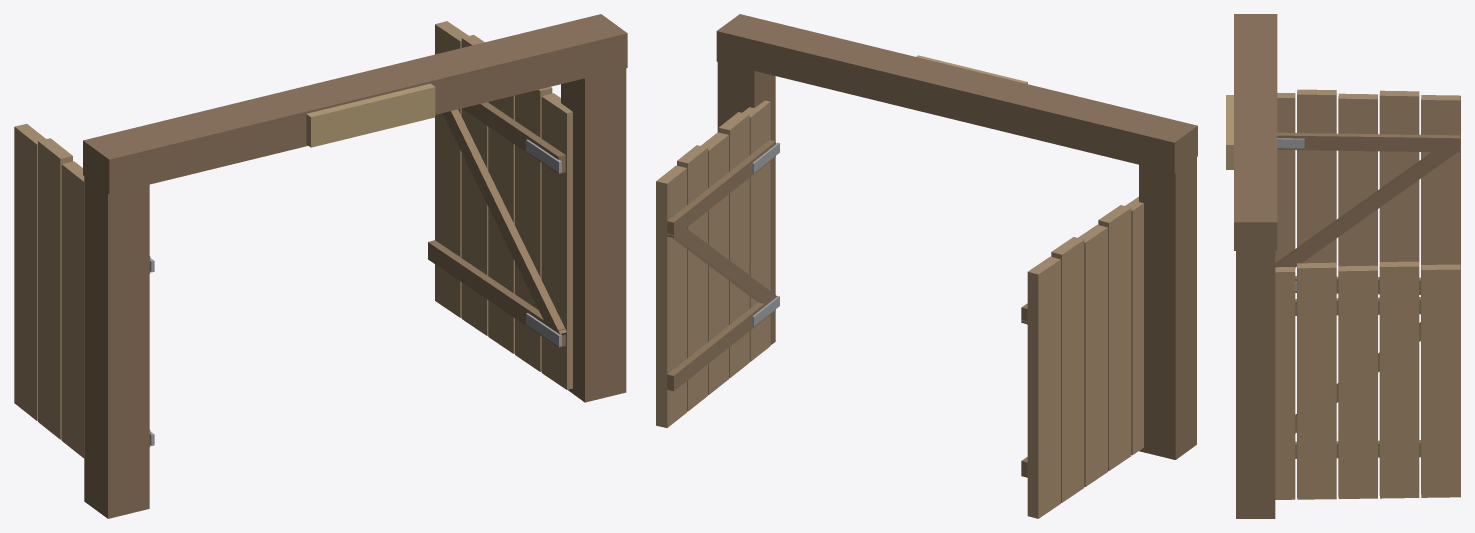
Rendered from wall_gate_open.glb.
3 views of the same model, side by side, from view 1: azimuth 30°, elevation 25°; view 2: azimuth 150°, elevation 25°; view 3: azimuth 270°, elevation 25° (orthographic). The views are drawn at different scales.
Parts seen in each view (by area): view 1: Gate.Lintel, Gate.Post, Gate.Post#2, Gate.Leaf#6, Gate.Leaf#4, Gate.Leaf#5, Gate.Leaf#3, Gate.Leaf#7, Gate.Leaf#10, Gate.Sign, Gate.Leaf#8, Gate.Leaf#9 (+3 smaller); view 2: Gate.Lintel, Gate.Post, Gate.Leaf#5, Gate.Leaf#10, Gate.Leaf#4, Gate.Leaf#2, Gate.Leaf#3, Gate.Leaf#6, Gate.Leaf#7, Gate.Leaf#9, Gate.Leaf#8, Gate.Post#2 (+4 smaller); view 3: Gate.Post#2, Gate.Lintel, Gate.Leaf#9, Gate.Leaf#7, Gate.Leaf#10, Gate.Leaf#8, Gate.Leaf#5, Gate.Leaf#4, Gate.Leaf#2, Gate.Leaf#3, Gate.Leaf#6, Gate.Brace#3 (+4 smaller).
Boxes of the visible parts, box(x1,y1,x2,y2) form: Gate.Lintel: box(83, 14, 627, 194); Gate.Post: box(84, 144, 149, 518); Gate.Post#2: box(561, 68, 626, 402); Gate.Leaf#6: box(541, 93, 572, 389); Gate.Leaf#4: box(38, 138, 72, 439); Gate.Leaf#5: box(14, 124, 45, 420); Gate.Leaf#3: box(61, 161, 84, 458); Gate.Leaf#7: box(515, 86, 552, 371); Gate.Leaf#10: box(435, 21, 468, 317); Gate.Sign: box(306, 83, 435, 147); Gate.Leaf#8: box(488, 95, 514, 353); Gate.Leaf#9: box(461, 34, 488, 335); Gate.Lintel: box(716, 14, 1197, 173); Gate.Post: box(1139, 128, 1196, 459); Gate.Leaf#5: box(1027, 256, 1060, 518); Gate.Leaf#10: box(656, 165, 686, 427); Gate.Leaf#4: box(1051, 237, 1084, 502); Gate.Leaf#2: box(1098, 205, 1131, 470); Gate.Leaf#3: box(1078, 224, 1107, 486); Gate.Leaf#6: box(742, 100, 770, 361); Gate.Leaf#7: box(718, 112, 749, 378); Gate.Leaf#9: box(677, 145, 707, 411); Gate.Leaf#8: box(701, 132, 728, 394); Gate.Post#2: box(717, 62, 775, 344); Gate.Post#2: box(1236, 224, 1275, 518); Gate.Lintel: box(1234, 14, 1277, 250); Gate.Leaf#9: box(1379, 261, 1419, 498); Gate.Leaf#7: box(1297, 262, 1336, 499); Gate.Leaf#10: box(1421, 264, 1460, 497); Gate.Leaf#8: box(1338, 265, 1377, 498); Gate.Leaf#5: box(1421, 95, 1460, 268); Gate.Leaf#4: box(1379, 90, 1419, 262); Gate.Leaf#2: box(1297, 89, 1336, 264); Gate.Leaf#3: box(1338, 93, 1377, 266); Gate.Leaf#6: box(1275, 267, 1295, 499); Gate.Brace#3: box(1275, 142, 1460, 267).
Size of the model in its own units: 5 by 3.32 by 2.38.
